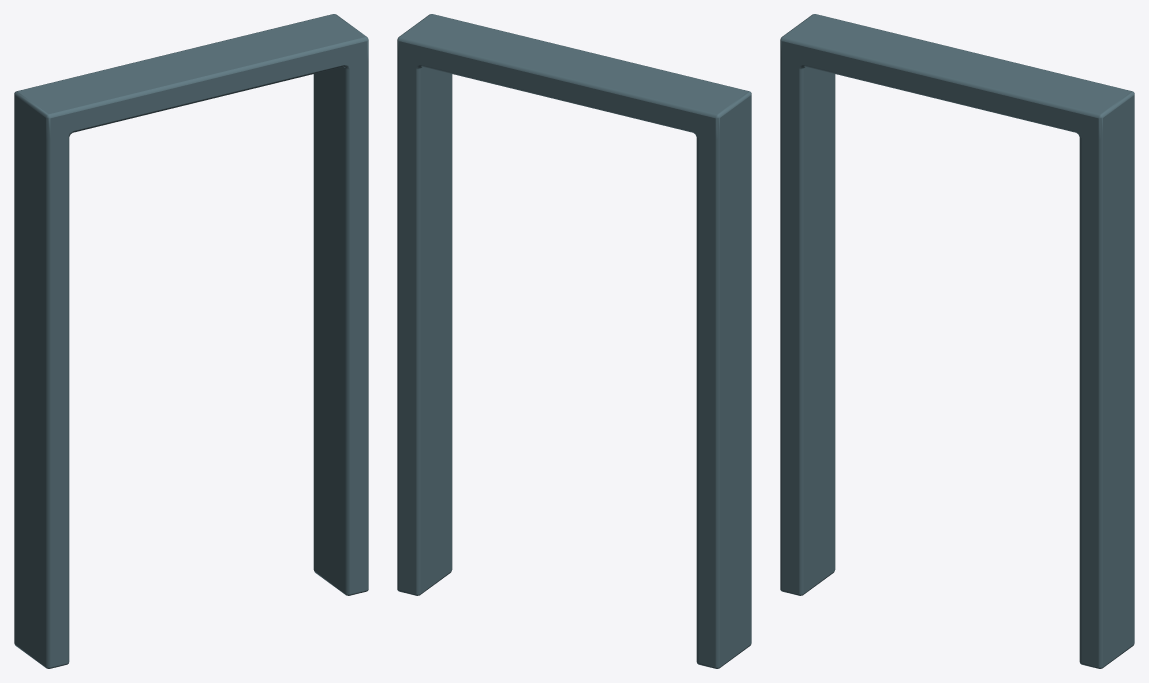
File: SM_Doorframe.glb
3 renders of one model, left to right at view 1: azimuth 30°, elevation 25°; view 2: azimuth 150°, elevation 25°; view 3: azimuth 330°, elevation 25°, orthographic.
Parts seen in each view (by area): view 1: SM_Doorframe; view 2: SM_Doorframe; view 3: SM_Doorframe.
Part boxes in pixels (x1,y1,x2,y2): SM_Doorframe: (14, 14, 368, 668); SM_Doorframe: (397, 14, 751, 668); SM_Doorframe: (780, 14, 1134, 668).
Bounding box in the file's own units: 1.4 × 2.3 × 0.26.
